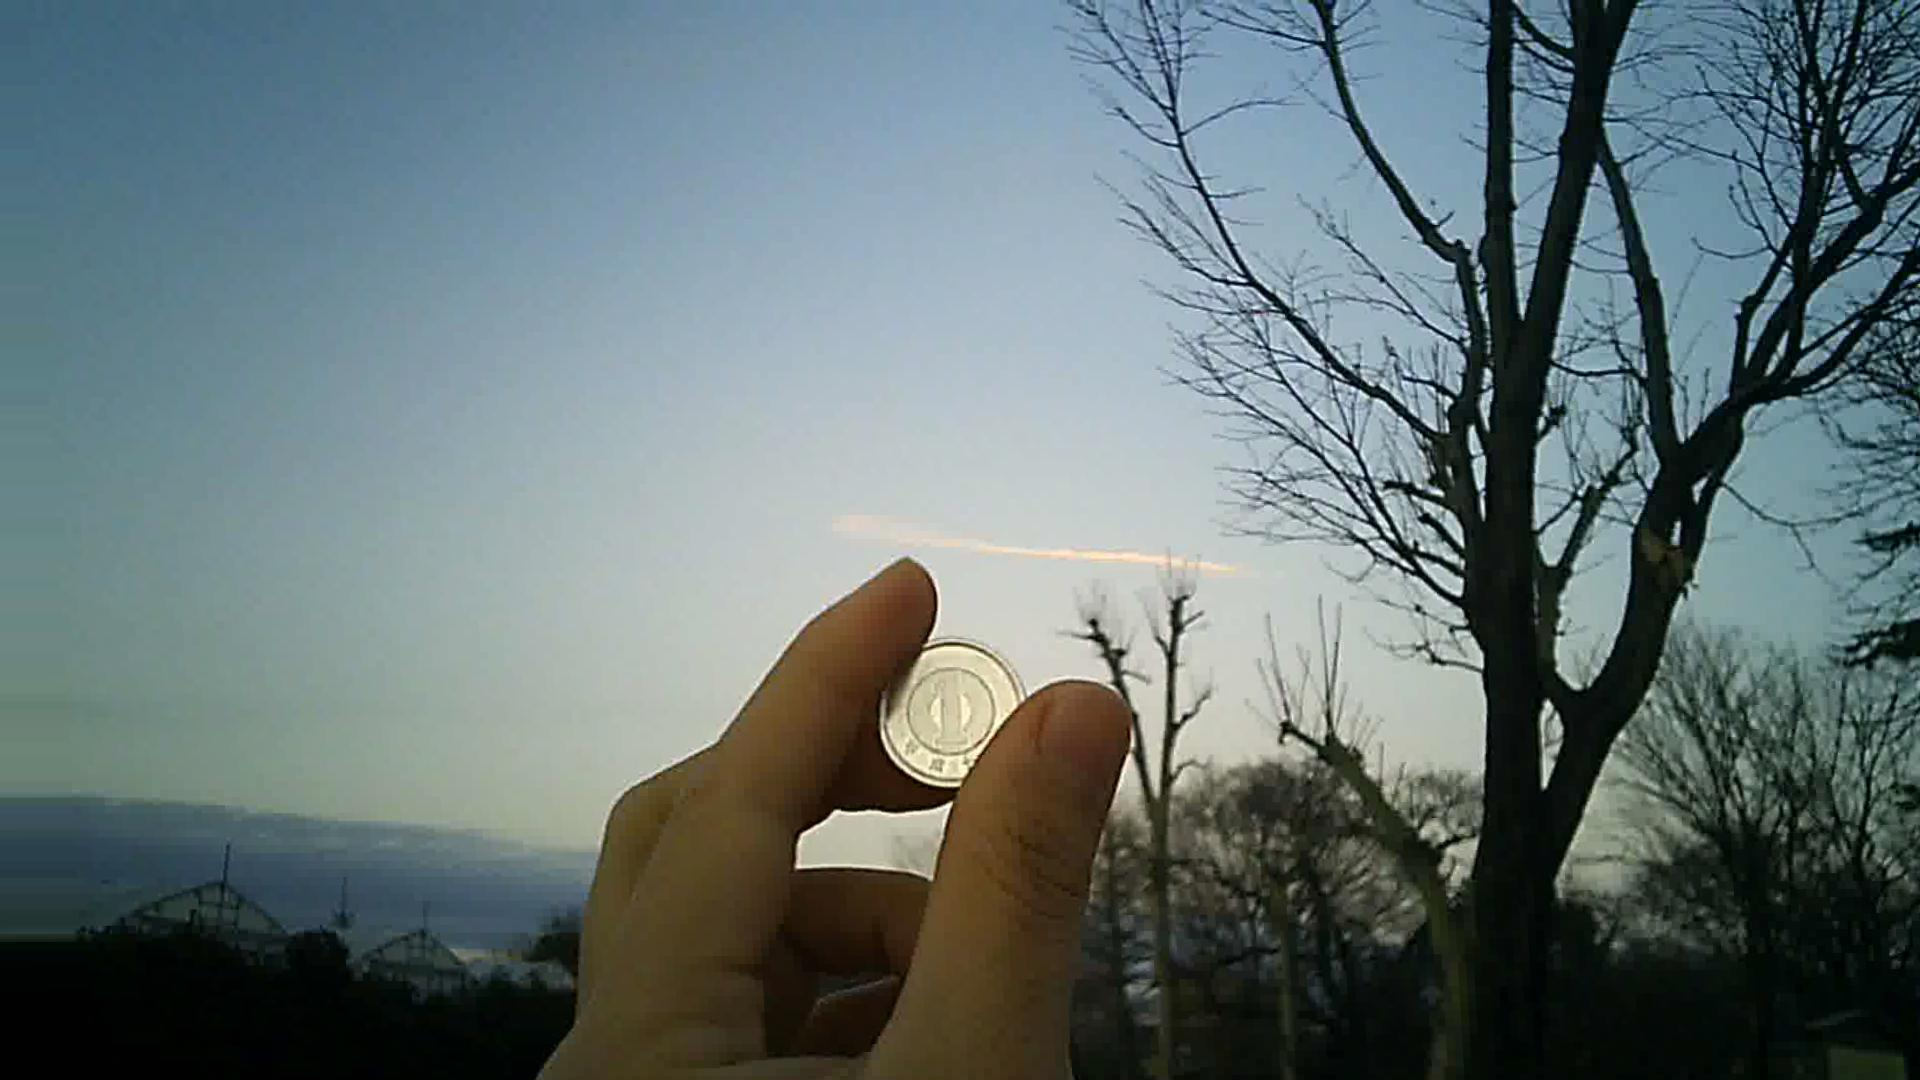1 Yen: (869, 622, 1038, 796)
